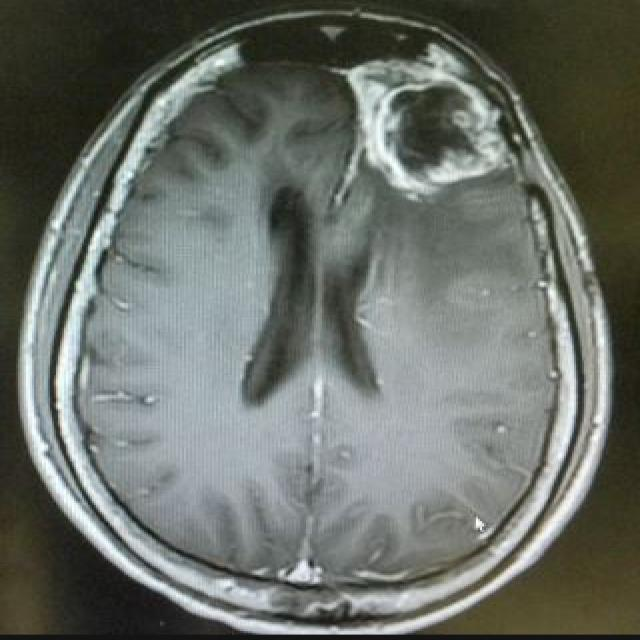Tumor-Cell: (368, 49, 508, 184)
